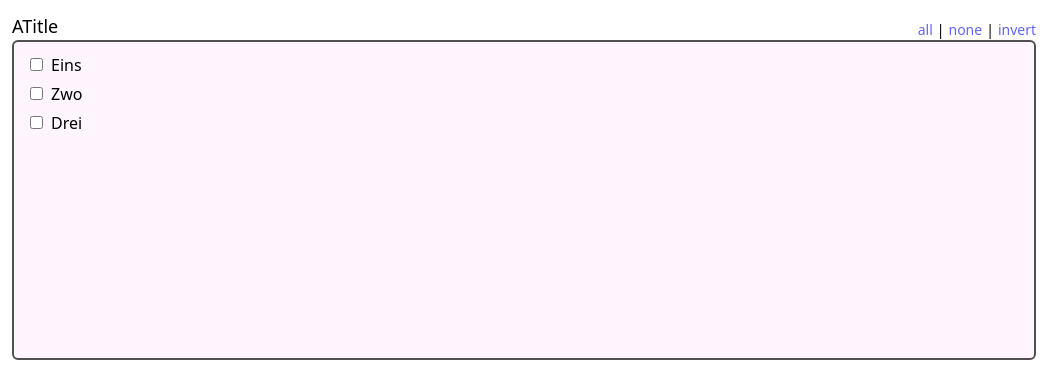
Test case: MultiSelect › selects all when button clicked
Click the button with test id "MultiSelect.selectAll" at (925,30), box [918,20,933,40]
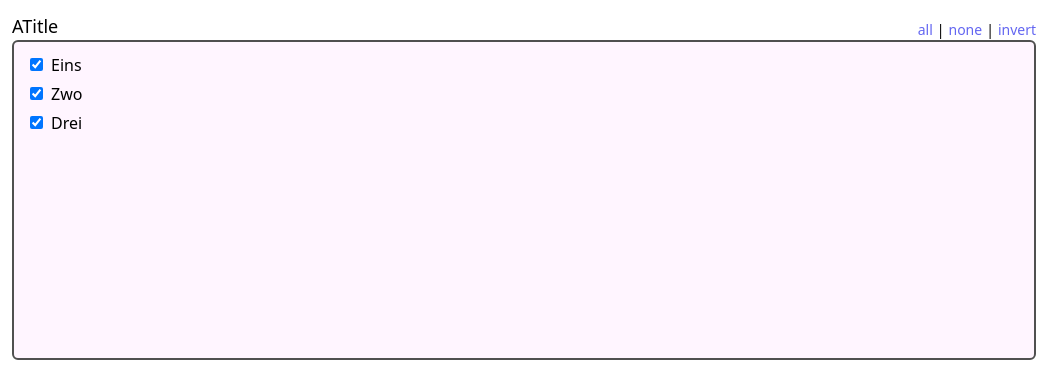
Now the checkbox labelled "Eins" is checked, box [30,58,43,71]
Now the checkbox labelled "Zwo" is checked, box [30,87,43,100]
Now the checkbox labelled "Drei" is checked, box [30,116,43,129]
